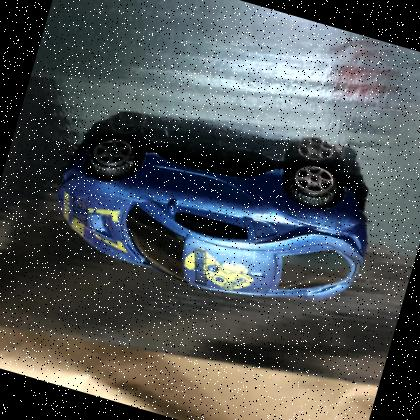Car: (55, 134, 368, 299)
